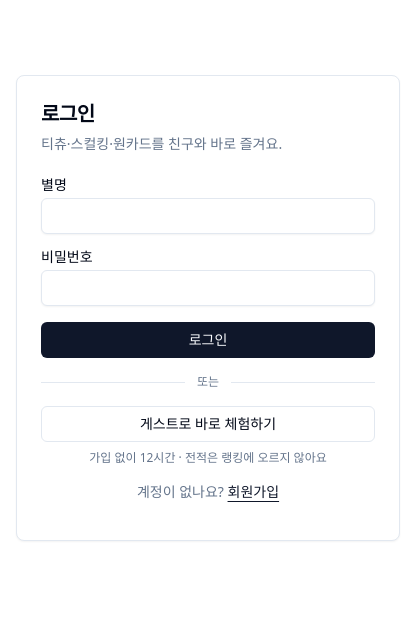
it: LoginPage — 게스트 체험 (D-117) › 전역 상한(503)이면 지금은 어렵다고 안내하고 회원가입으로 유도한다
What coordinates should you click on to do the following:
click the button "게스트로 바로 체험하기"
I would click on:
 (208, 424)
Its box is [41, 406, 375, 442].
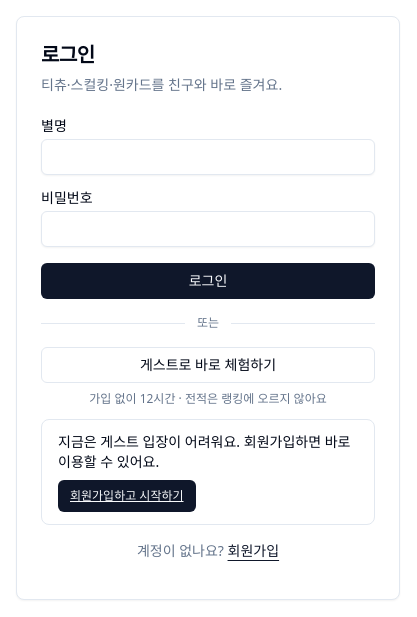
Check: the text "지금은 게스트 입장이 어려워요. 회원가입하면 바로 이용할 수 있어요." is shown, box [58, 432, 358, 472]
Check: the link "회원가입하고 시작하기" is shown, box [58, 480, 196, 512]
